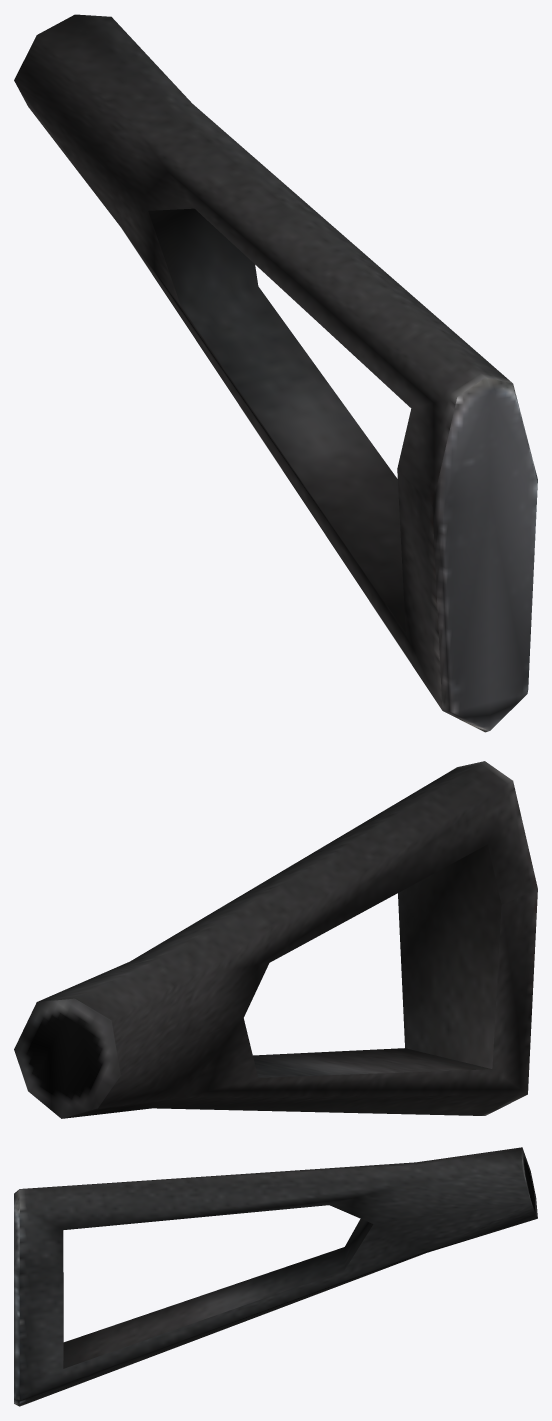
Rendered from Stock_Light.fbx.
3 renders of one model, top to bottom at view 1: azimuth 30°, elevation 25°; view 2: azimuth 150°, elevation 25°; view 3: azimuth 270°, elevation 25°, orthographic. The views are drawn at different scales.
Parts seen in each view (by area): view 1: Mossberg_Plastic.002; view 2: Mossberg_Plastic.002; view 3: Mossberg_Plastic.002.
Boxes of the visible parts, x1,y1,x2,y2 form: Mossberg_Plastic.002: [14, 14, 537, 732]; Mossberg_Plastic.002: [14, 761, 537, 1118]; Mossberg_Plastic.002: [14, 1147, 537, 1406].
Bounding box in the file's own units: 0.0236 × 0.1638 × 0.0881.
